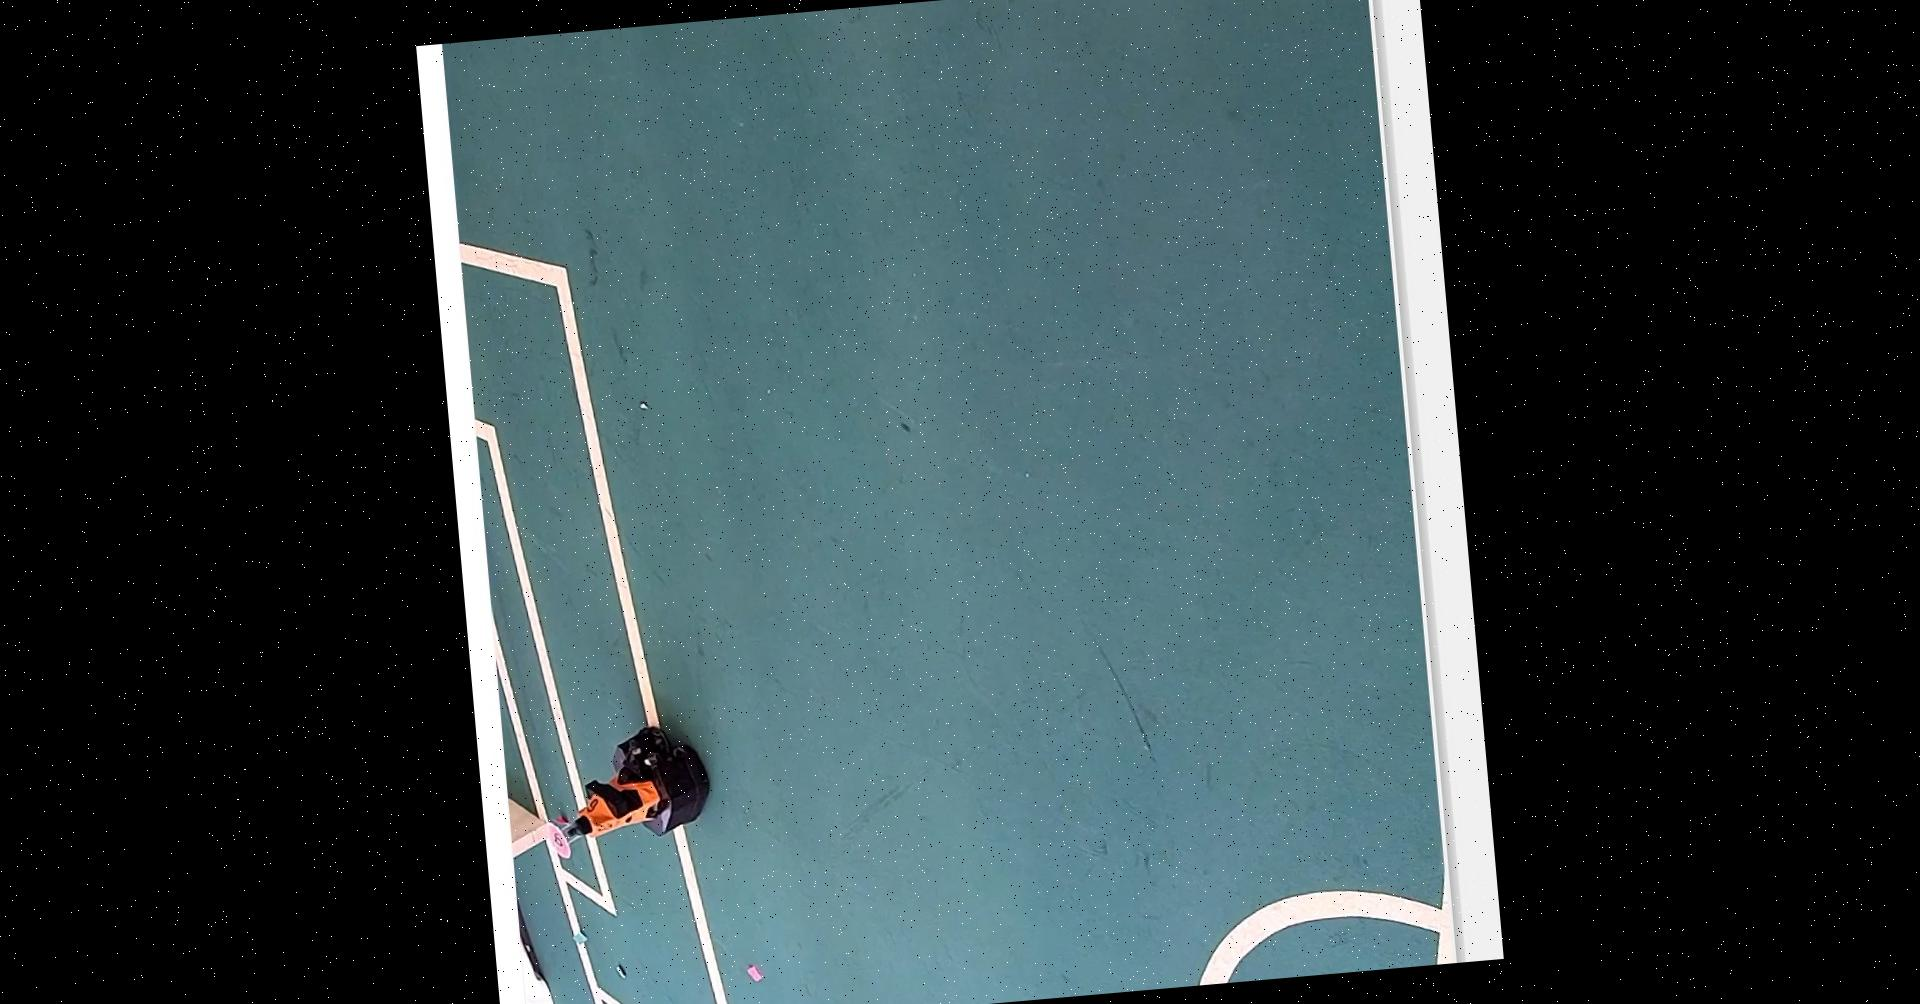Team_Red: (535, 715, 710, 862)
